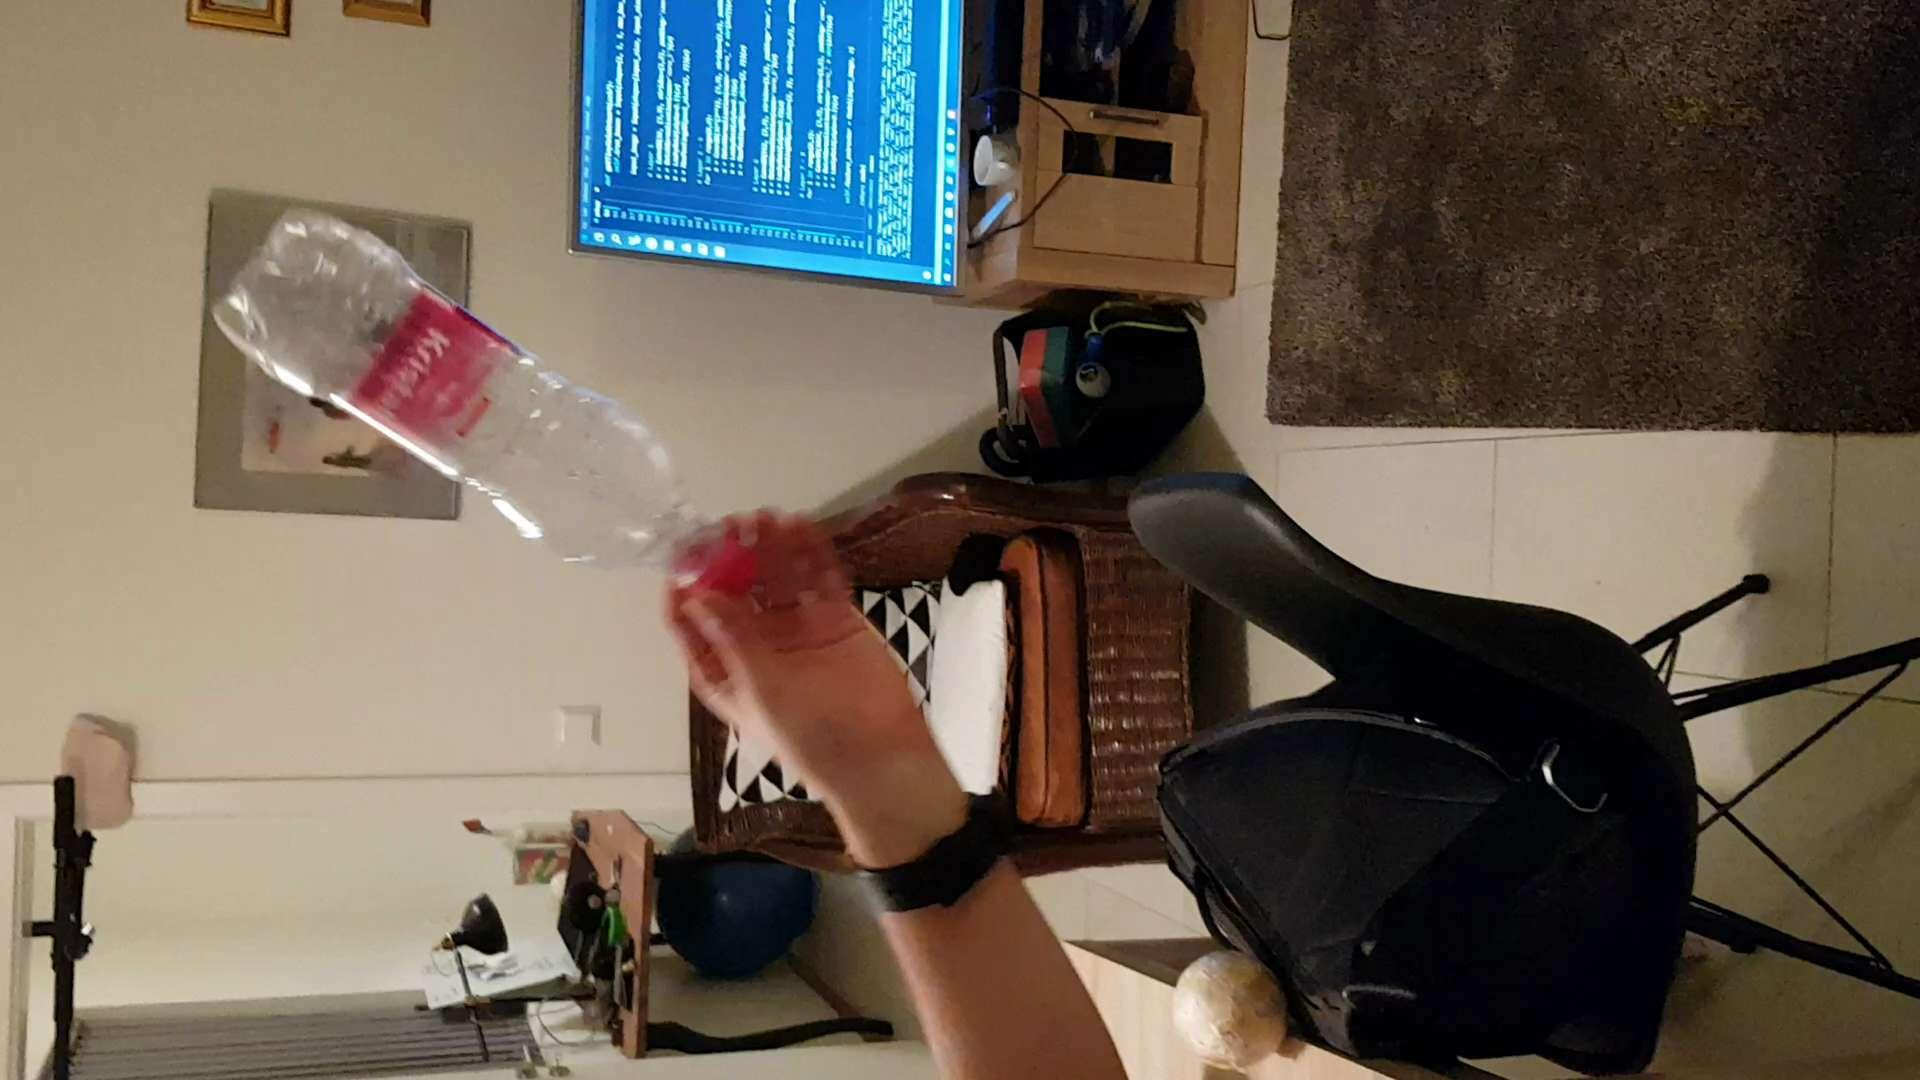Bottle: (200, 207, 756, 593)
